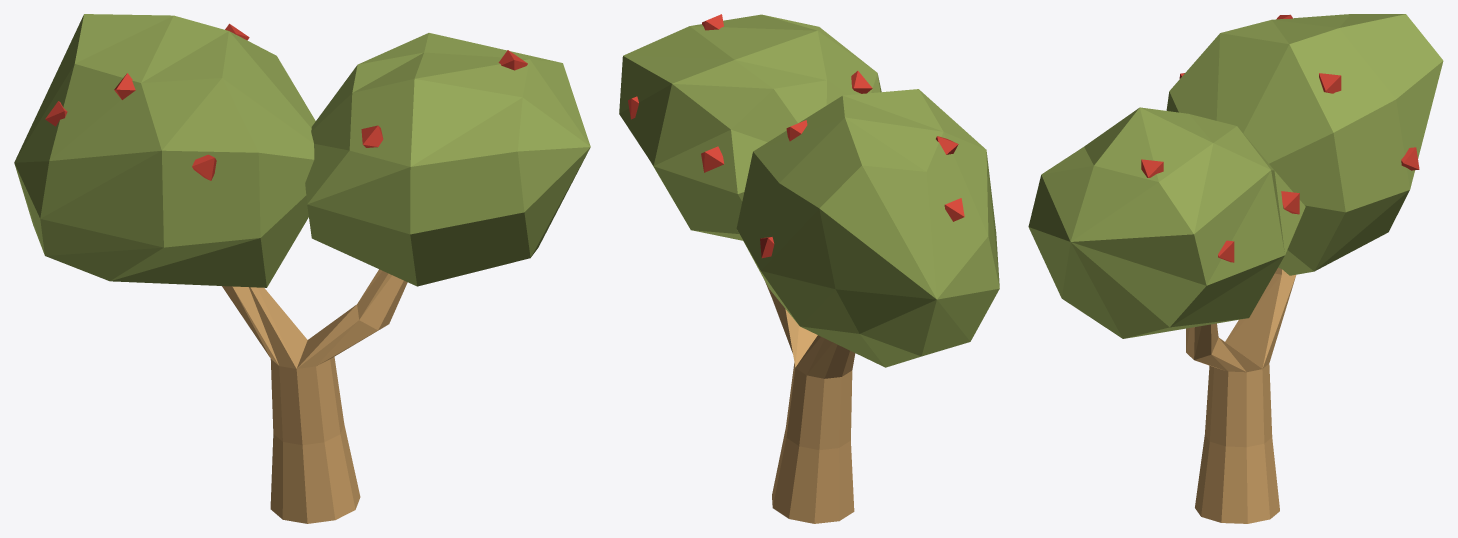
File: bush_tree.FBX
3 views of the same model, side by side, from view 1: azimuth 30°, elevation 25°; view 2: azimuth 150°, elevation 25°; view 3: azimuth 270°, elevation 25° (orthographic). The views are drawn at different scales.
Visible parts, largest first — view 1: Cylinder045; view 2: Cylinder045; view 3: Cylinder045.
Boxes of the visible parts, bbox=[...] form: Cylinder045: bbox=[14, 14, 590, 523]; Cylinder045: bbox=[619, 14, 999, 523]; Cylinder045: bbox=[1028, 14, 1443, 523].
Size of the model in its own units: 6.06 by 5.95 by 5.03.
Materials: 1 (1 with a texture image).
